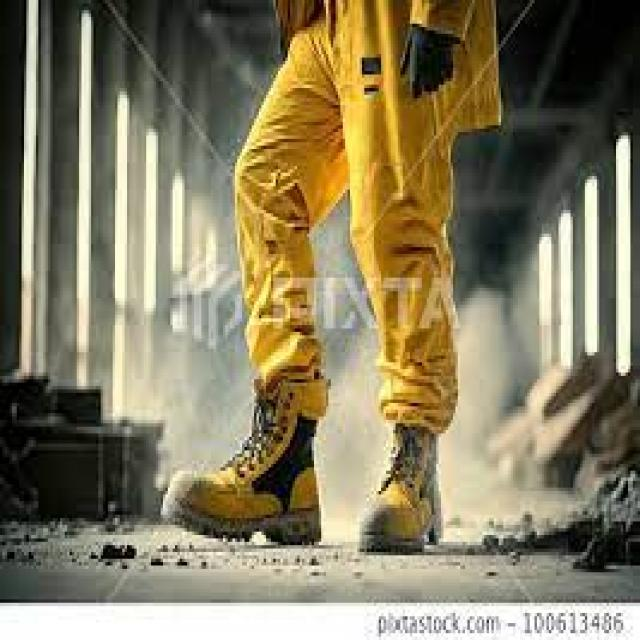shoes: (154, 370, 329, 549), (359, 429, 445, 553)
